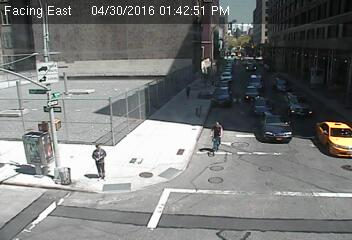neg: (200, 117, 233, 162), (271, 131, 300, 168)
pos: (83, 139, 118, 185)
